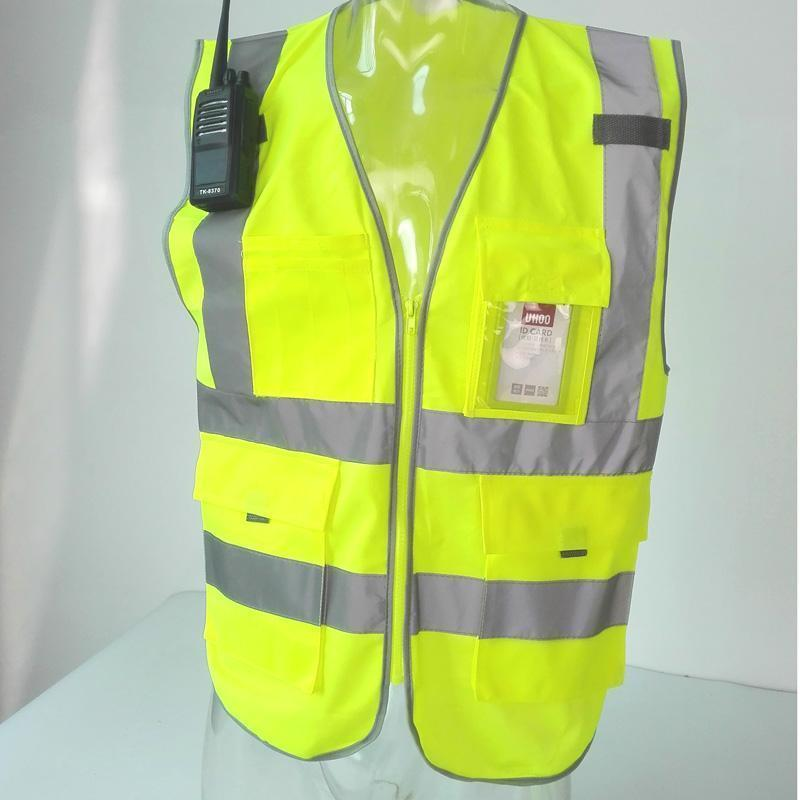vest: (163, 0, 690, 784)
